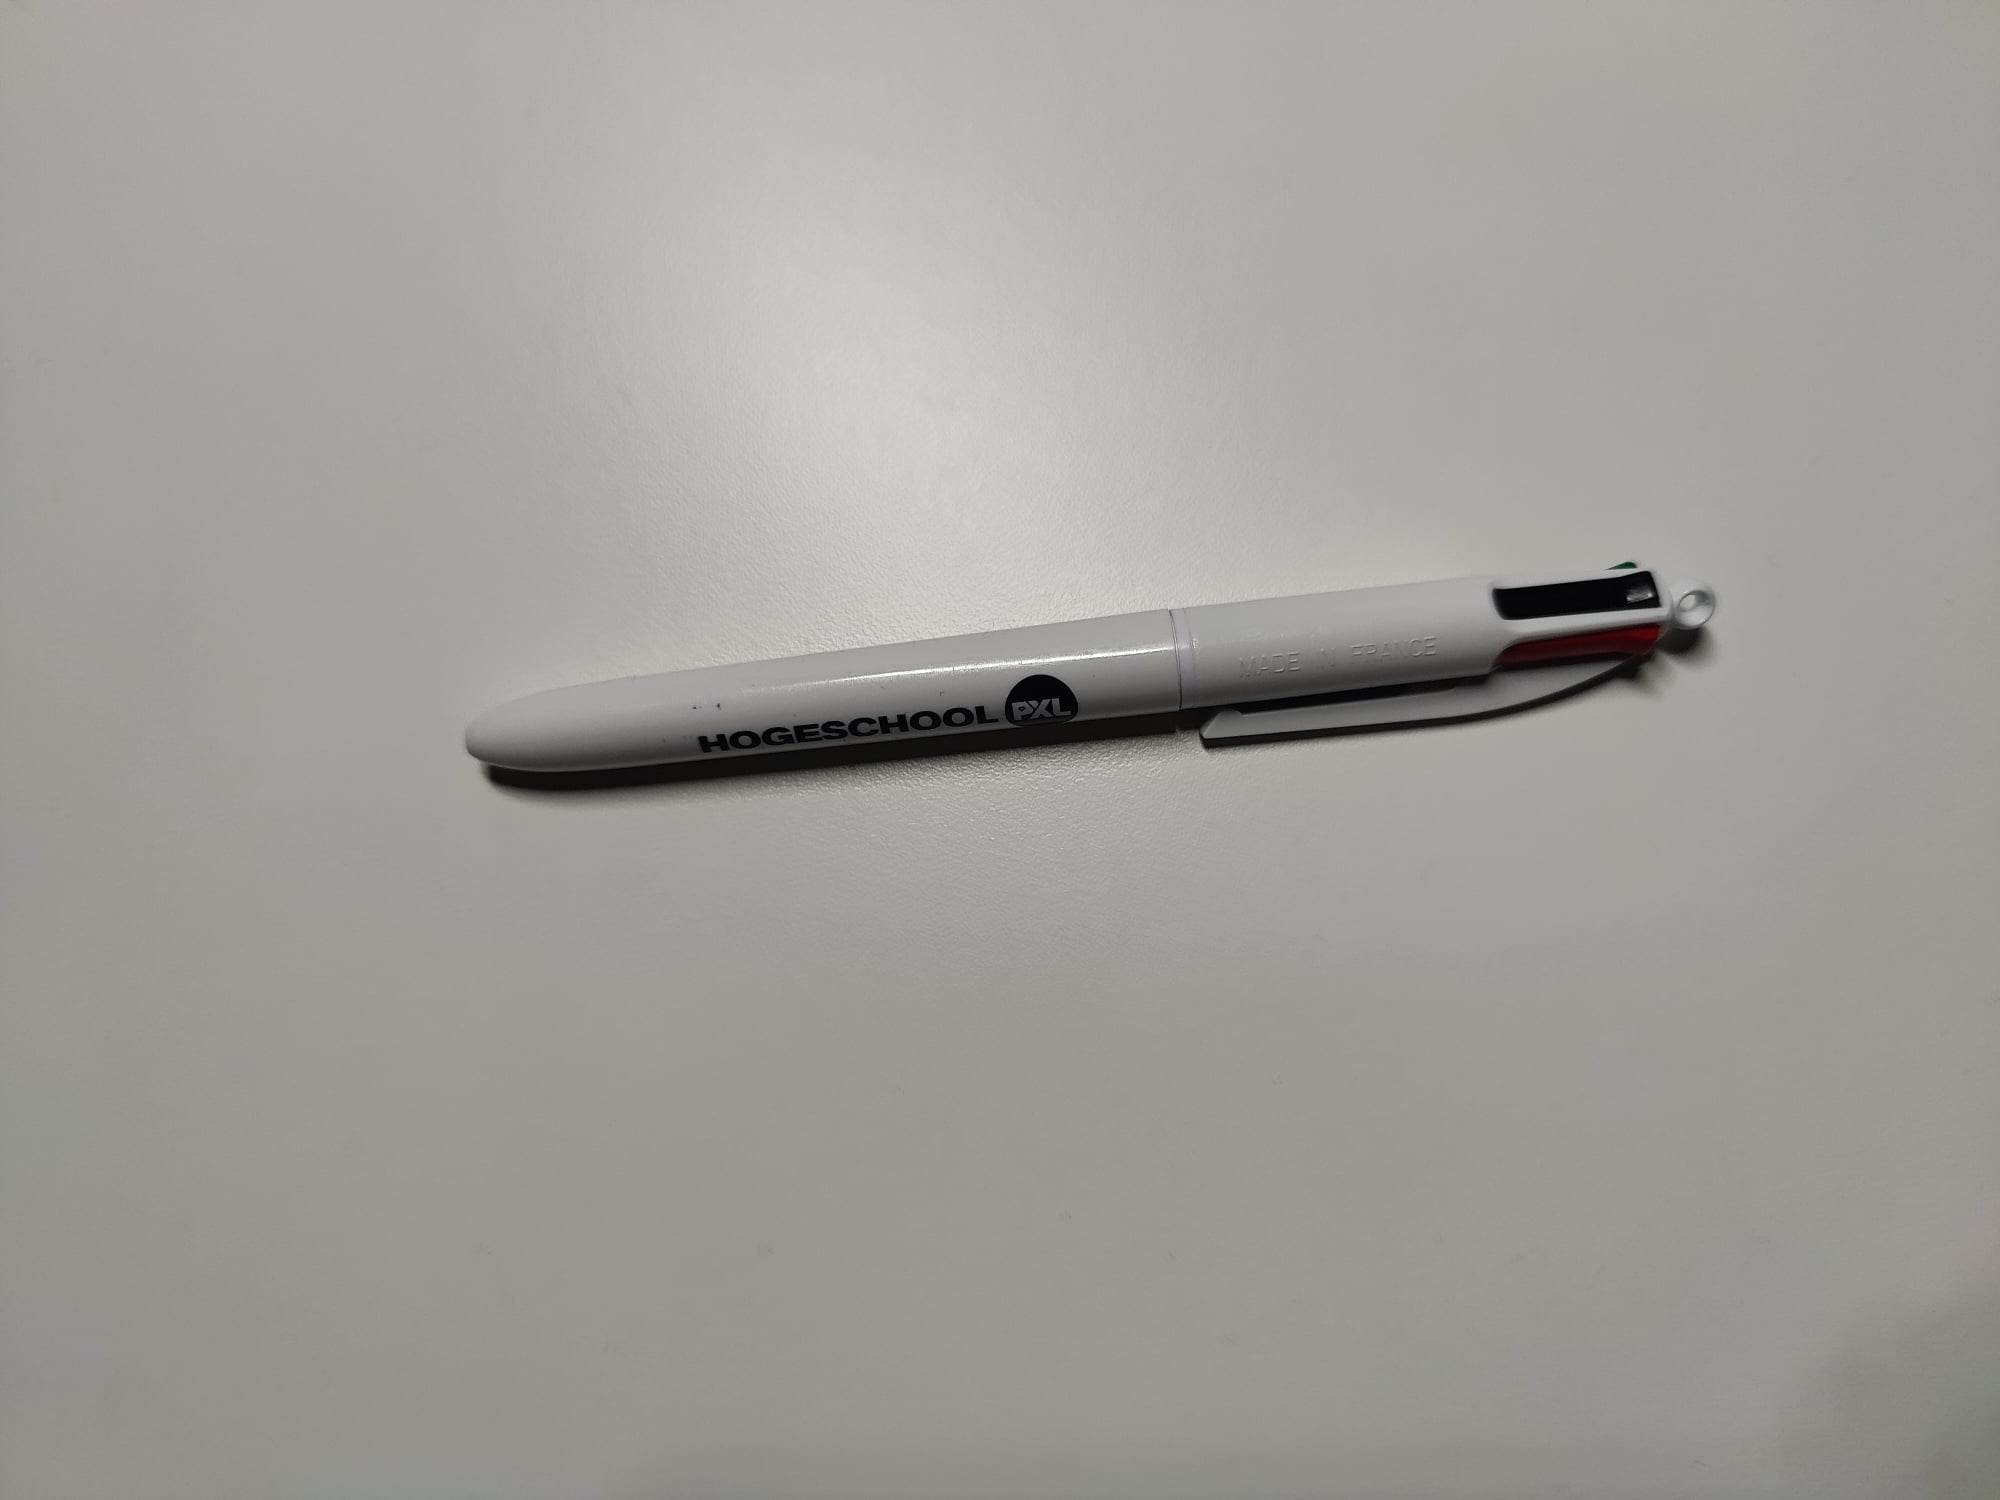Pen: (436, 540, 1724, 810)
